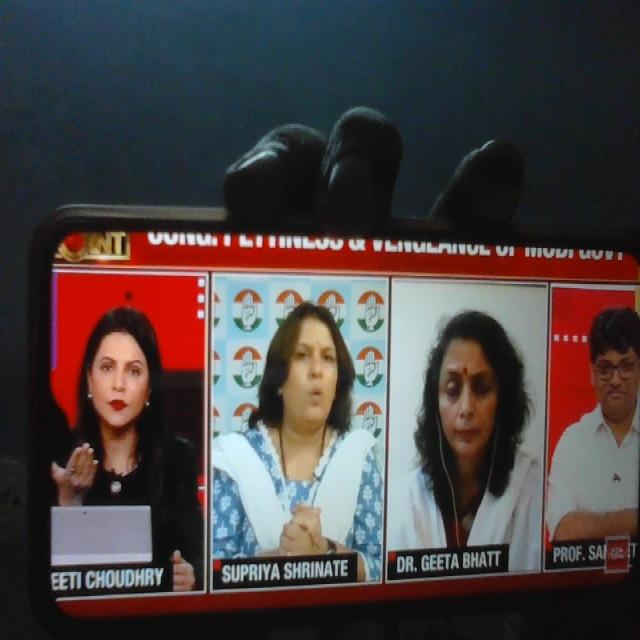fake: (410, 285, 525, 503)
